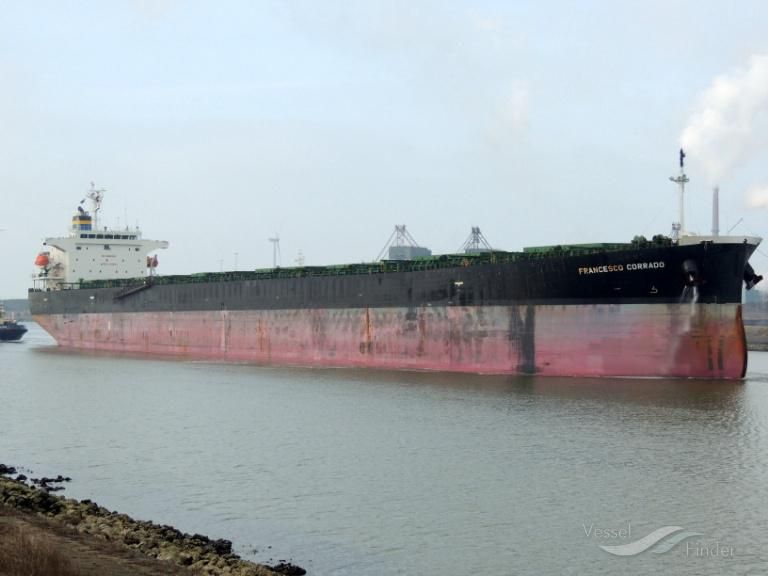OCR: (572, 256, 674, 280)
